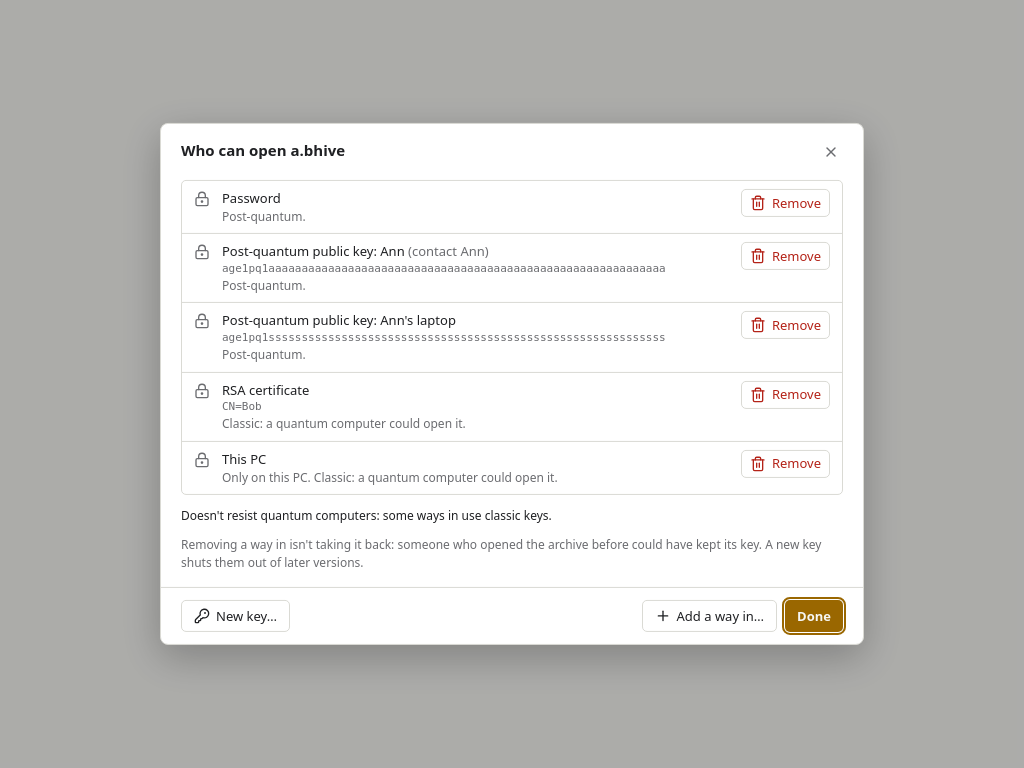
who can open an encrypted .bhive (docs/M14.md §3, §8) › adds a password and a recovery key, and shows the new key once
Click the button "Add a way in…" at (709, 616), box [642,600,777,632]
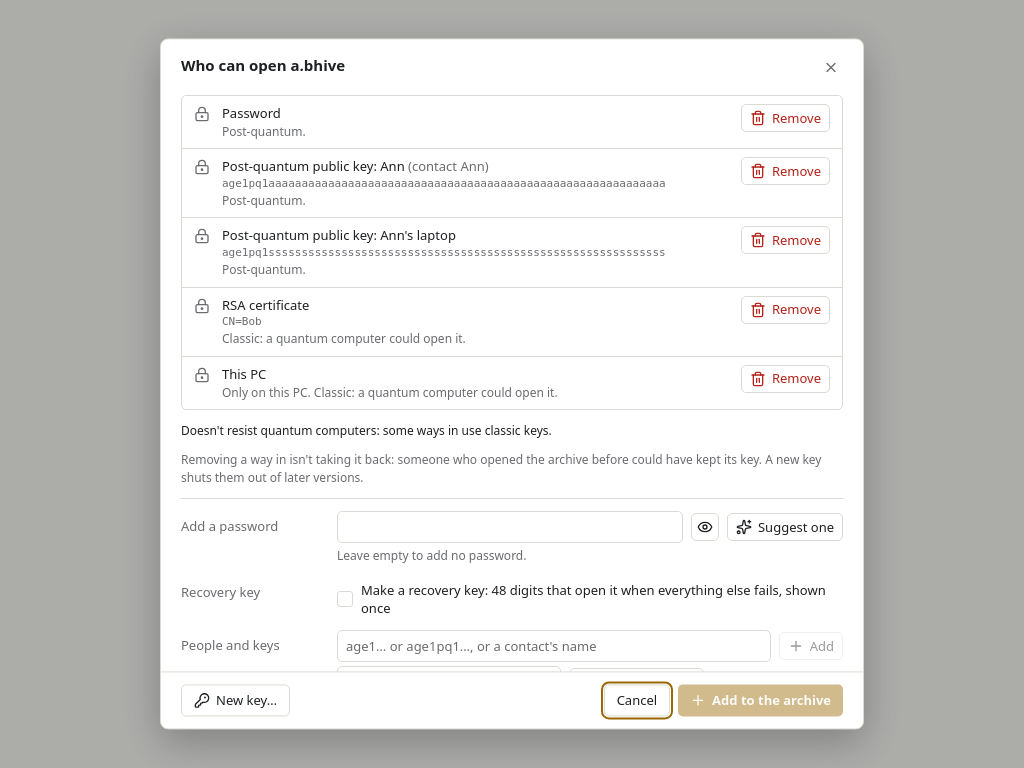
Expected: the button "Add to the archive" is disabled, [678,685,843,717]
Type "a second password" into the password field labelled "Add a password" at (510, 528), box [337,512,683,544]
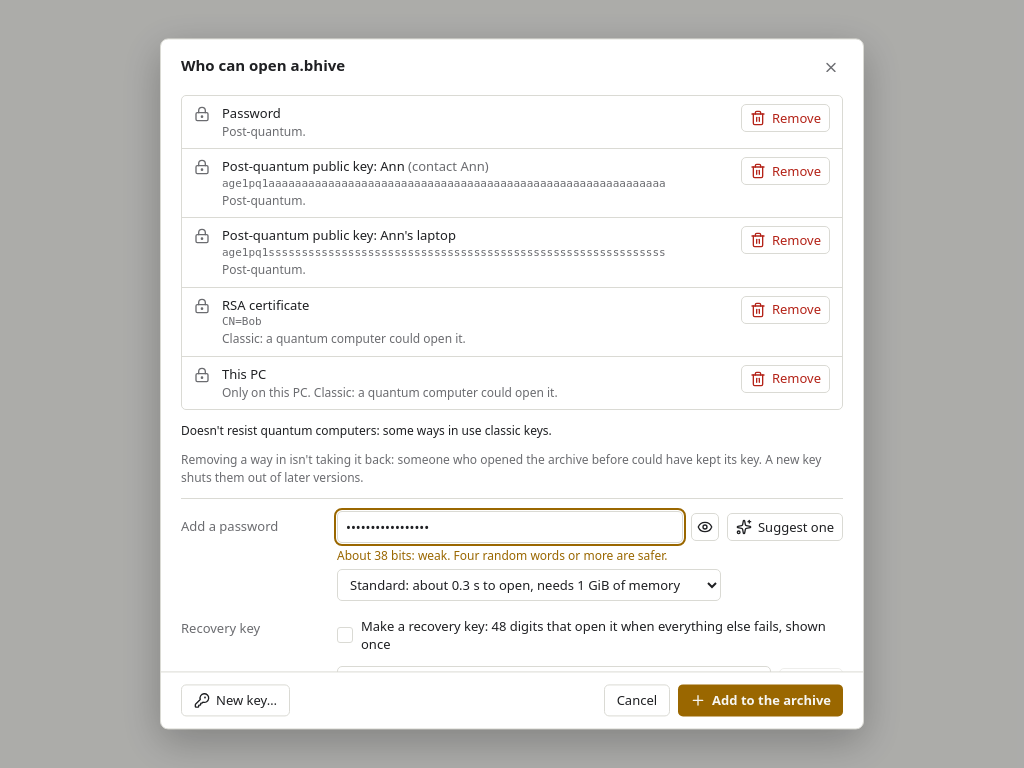
Click the text "Make a recovery key" at (602, 636), box [361,617,843,655]
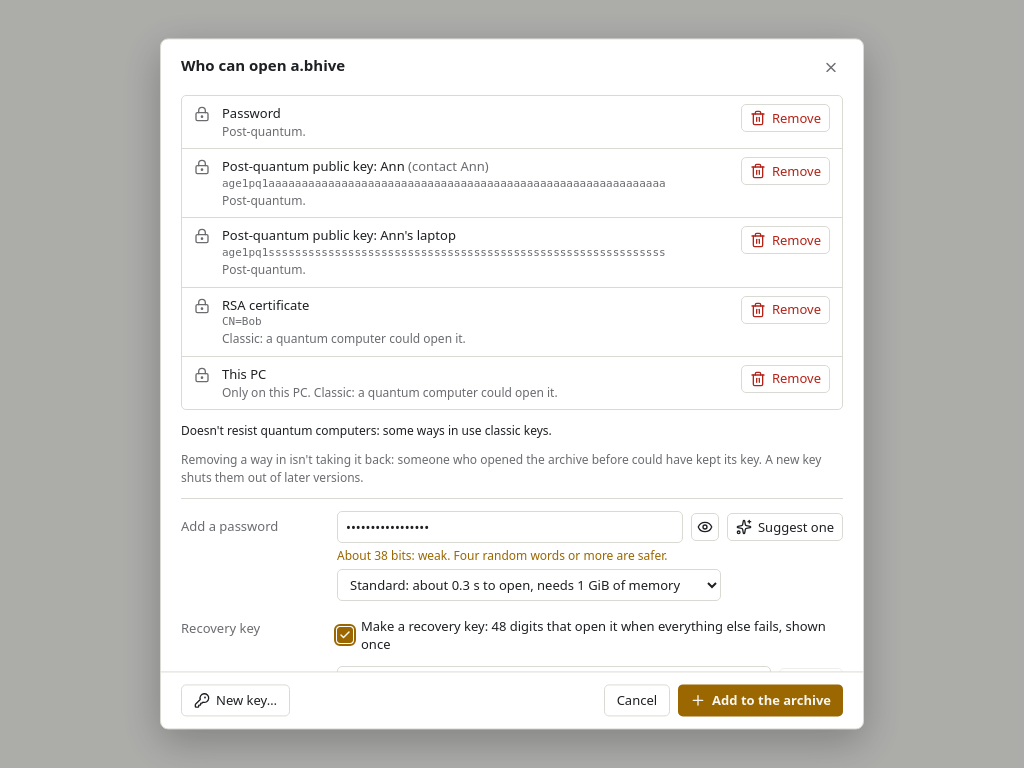
Click the button "Add to the archive" at (761, 701), box [678,685,843,717]
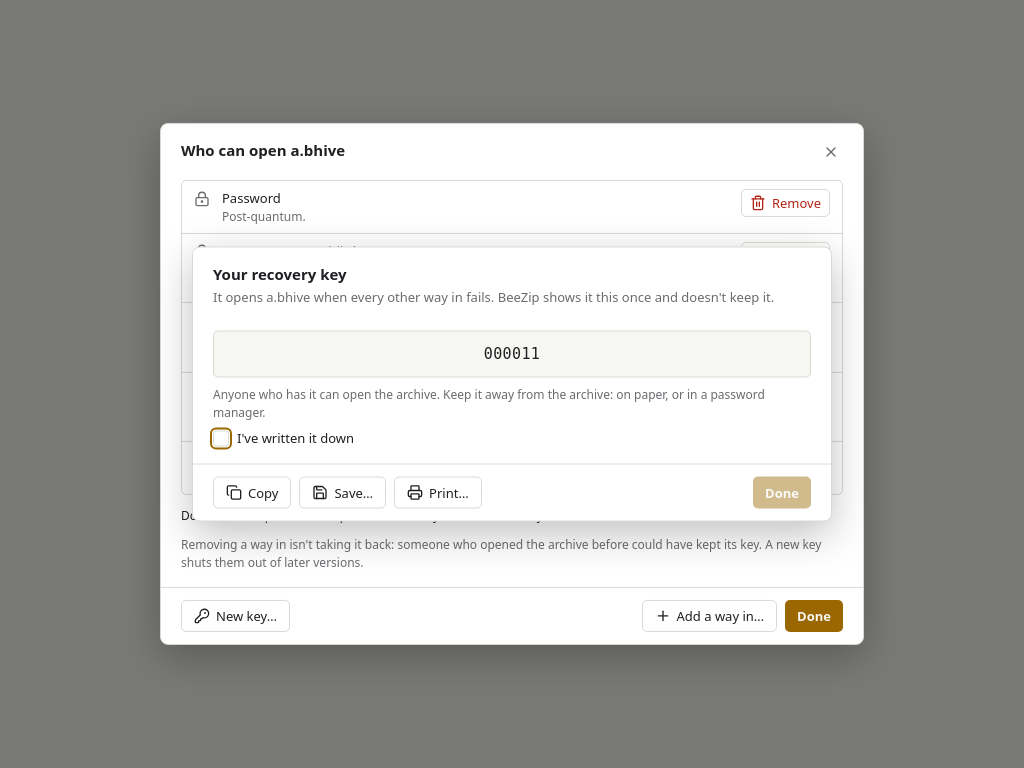
Expected: the text with test id "recovery-key" reads "000011", [484,344,540,362]
